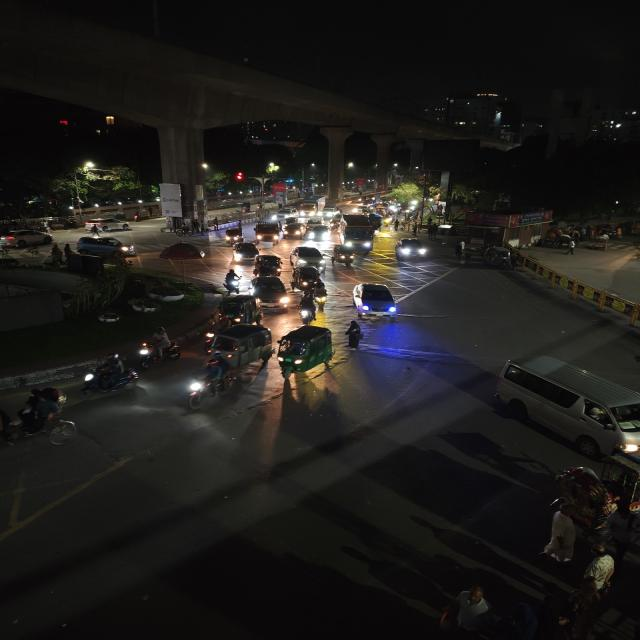bicycle: (172, 225, 198, 241)
bus: (335, 214, 380, 252)
car: (492, 353, 640, 459), (350, 280, 400, 320), (250, 275, 291, 313), (74, 234, 141, 256), (0, 227, 56, 249), (289, 243, 329, 269), (393, 236, 430, 262), (83, 217, 134, 234), (230, 241, 260, 264), (305, 224, 332, 242), (281, 222, 305, 240), (270, 208, 299, 222)
cng: (274, 323, 336, 389), (209, 324, 271, 368), (212, 296, 262, 328), (479, 247, 516, 271), (251, 254, 285, 278), (294, 265, 326, 289), (331, 243, 358, 269), (222, 227, 245, 245)
motorcycle: (78, 355, 140, 399), (180, 373, 242, 411), (136, 325, 183, 371), (296, 294, 318, 324), (222, 266, 244, 294)
pedestrian: (542, 502, 580, 565), (342, 318, 364, 352), (426, 223, 443, 241), (460, 249, 476, 267), (392, 219, 401, 235), (456, 242, 464, 256), (412, 221, 418, 236)
pickup_van: (253, 220, 283, 243)
truck: (296, 194, 327, 218)
